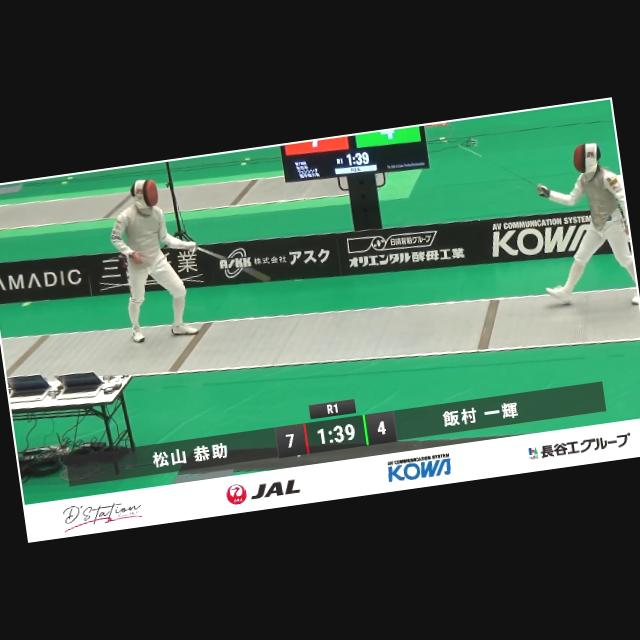blade: (446, 125, 548, 209), (185, 224, 276, 294)
